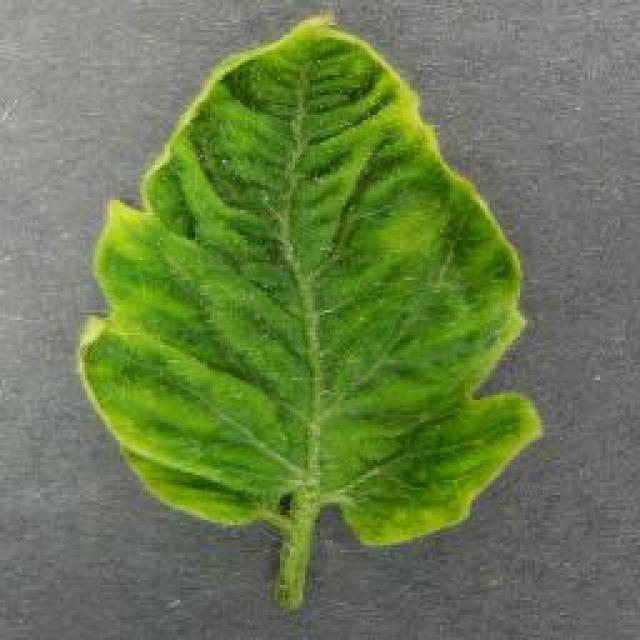Tomato yellow virus leaf: (80, 11, 544, 544)
